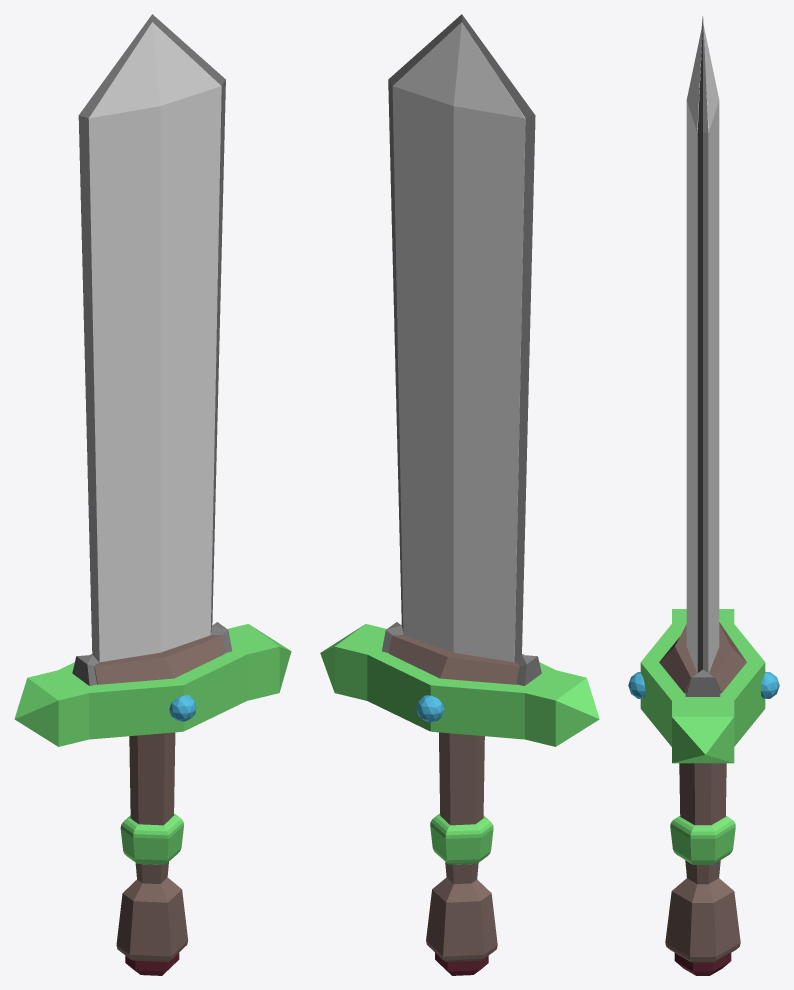
File: sword_final.fbx
3 views of the same model, side by side, from view 1: azimuth 30°, elevation 25°; view 2: azimuth 150°, elevation 25°; view 3: azimuth 270°, elevation 25° (orthographic).
Parts seen in each view (by area): view 1: Sword; view 2: Sword; view 3: Sword.
Part boxes in pixels (x1,y1,x2,y2): Sword: [14, 14, 291, 975]; Sword: [320, 14, 599, 975]; Sword: [628, 16, 779, 975].
Bounding box in the file's own units: 515 × 1697 × 243.
